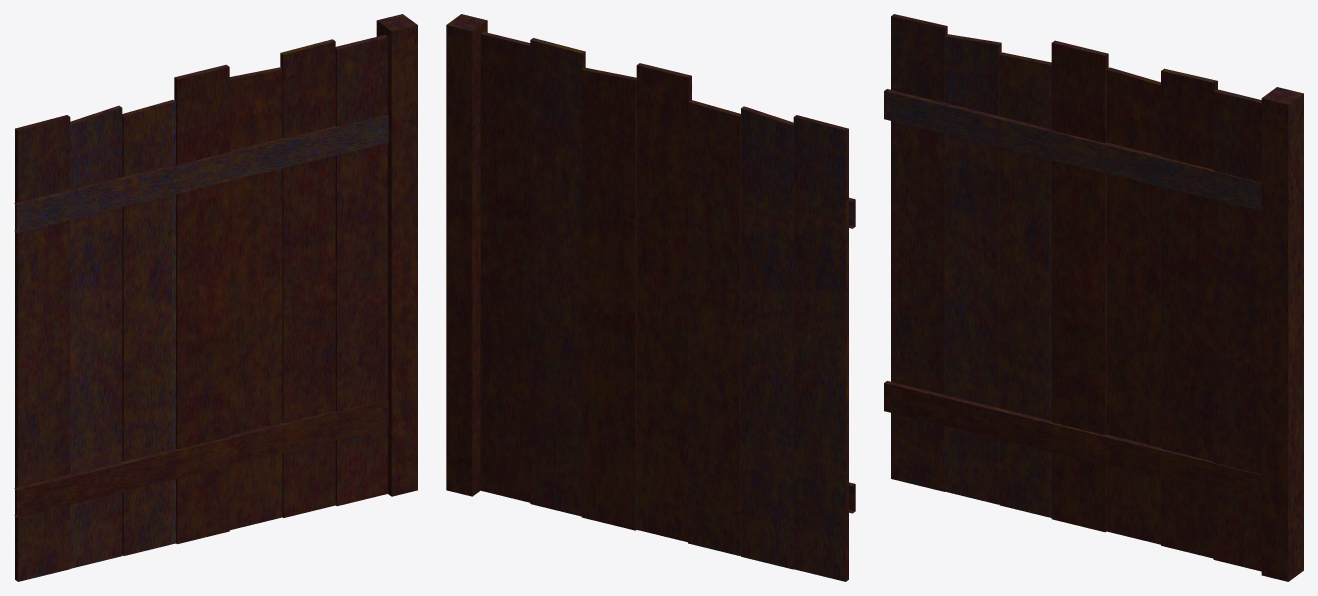
File: Wood_3.FBX
The picture shows the model from 3 angles, left to right: view 1: azimuth 30°, elevation 25°; view 2: azimuth 150°, elevation 25°; view 3: azimuth 330°, elevation 25°; orthographic projection. The views are drawn at different scales.
Parts seen in each view (by area): view 1: Wood_3; view 2: Wood_3; view 3: Wood_3.
Boxes of the visible parts, x1=… form: Wood_3: x1=14, y1=14, x2=417, y2=581; Wood_3: x1=446, y1=14, x2=855, y2=581; Wood_3: x1=884, y1=14, x2=1303, y2=581.
Size of the model in its own units: 76 by 85 by 5.
